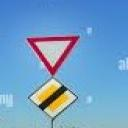preferencia: (22, 33, 84, 77)
